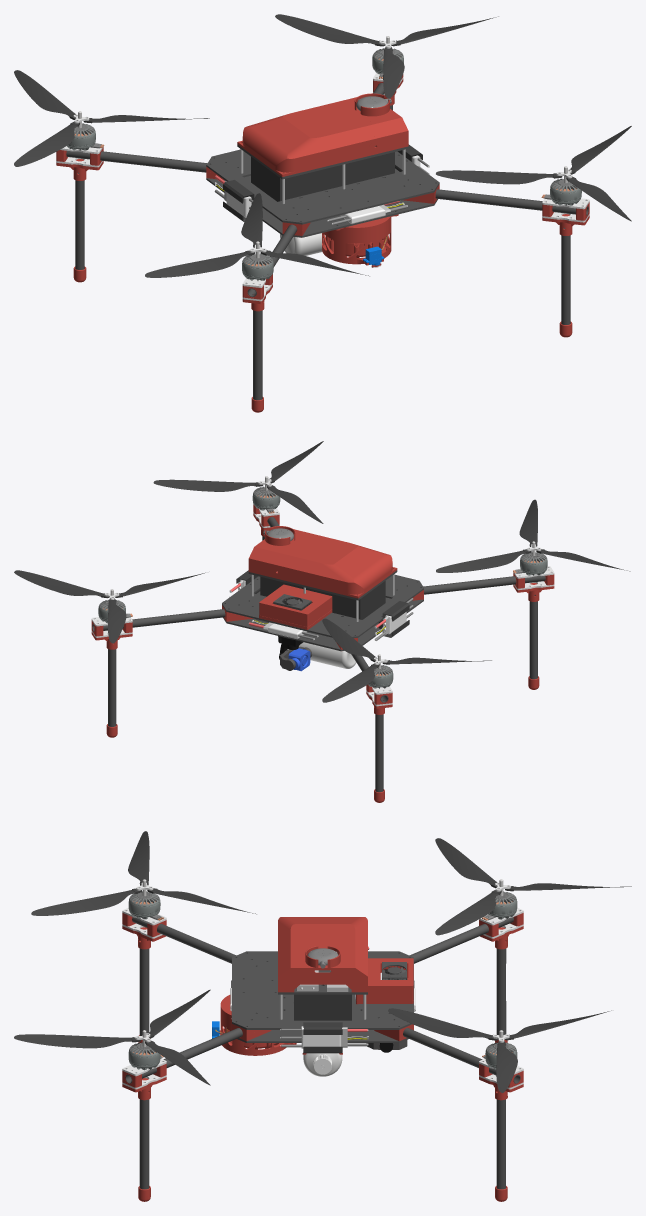
File: storm-final-optimized-v4.glb
3 views of the same model, one above another, from view 1: azimuth 30°, elevation 25°; view 2: azimuth 150°, elevation 25°; view 3: azimuth 270°, elevation 25° (orthographic). The views are drawn at different scales.
Visible parts, largest first — view 1: Body2.002, Body1.010, Body1.011, Body1.089, Body1.019, Body1, Body1.047, Body1.049, Body1.091, Body1.095, Body1.102, Body1.099 (+14 smaller); view 2: Body2.002, Body1.010, Body1.113, Body1.011, Body1.019, Body1, Body1.002, Body1.092, Body1.048, Body1.094, Body1.104, Body1.081 (+10 smaller); view 3: Body1.010, Body2.002, Body1.019, Body1.113, Body1.011, Body1, Body1.090, Body1.103, Body1.096, Body1.089, Body1.100, Body1.023 (+20 smaller).
Boxes of the visible parts, <box> form: Body2.002: <box>237,100,376,176</box>; Body1.010: <box>206,149,439,224</box>; Body1.011: <box>251,152,394,201</box>; Body1.089: <box>322,214,398,265</box>; Body1.019: <box>343,93,408,157</box>; Body1: <box>206,168,437,237</box>; Body1.047: <box>435,189,588,215</box>; Body1.049: <box>66,151,207,172</box>; Body1.091: <box>436,170,562,184</box>; Body1.095: <box>275,14,384,46</box>; Body1.102: <box>145,250,255,277</box>; Body1.099: <box>14,122,79,166</box>; Body2.002: <box>276,532,397,598</box>; Body1.010: <box>222,574,423,638</box>; Body1.113: <box>259,584,332,626</box>; Body1.011: <box>260,576,385,619</box>; Body1.019: <box>248,526,305,581</box>; Body1: <box>223,591,423,651</box>; Body1.002: <box>423,575,545,594</box>; Body1.092: <box>153,479,263,491</box>; Body1.048: <box>92,609,225,631</box>; Body1.094: <box>14,570,109,598</box>; Body1.104: <box>436,549,531,572</box>; Body1.081: <box>299,642,356,668</box>; Body1.010: <box>232,951,413,1029</box>; Body2.002: <box>278,917,367,959</box>; Body1.019: <box>278,946,367,992</box>; Body1.113: <box>356,958,413,1000</box>; Body1.011: <box>294,994,351,1020</box>; Body1: <box>237,994,408,1042</box>; Body1.090: <box>14,1034,140,1048</box>; Body1.103: <box>31,888,141,915</box>; Body1.096: <box>388,1008,497,1040</box>; Body1.089: <box>219,995,296,1055</box>; Body1.100: <box>435,890,501,935</box>; Body1.023: <box>139,1099,149,1189</box>.
Bounding box in the file's own units: 0.9681 × 0.3394 × 0.9681.
